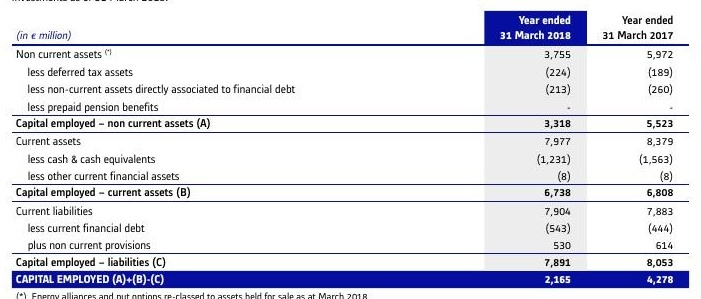table: (0, 0, 701, 299)
